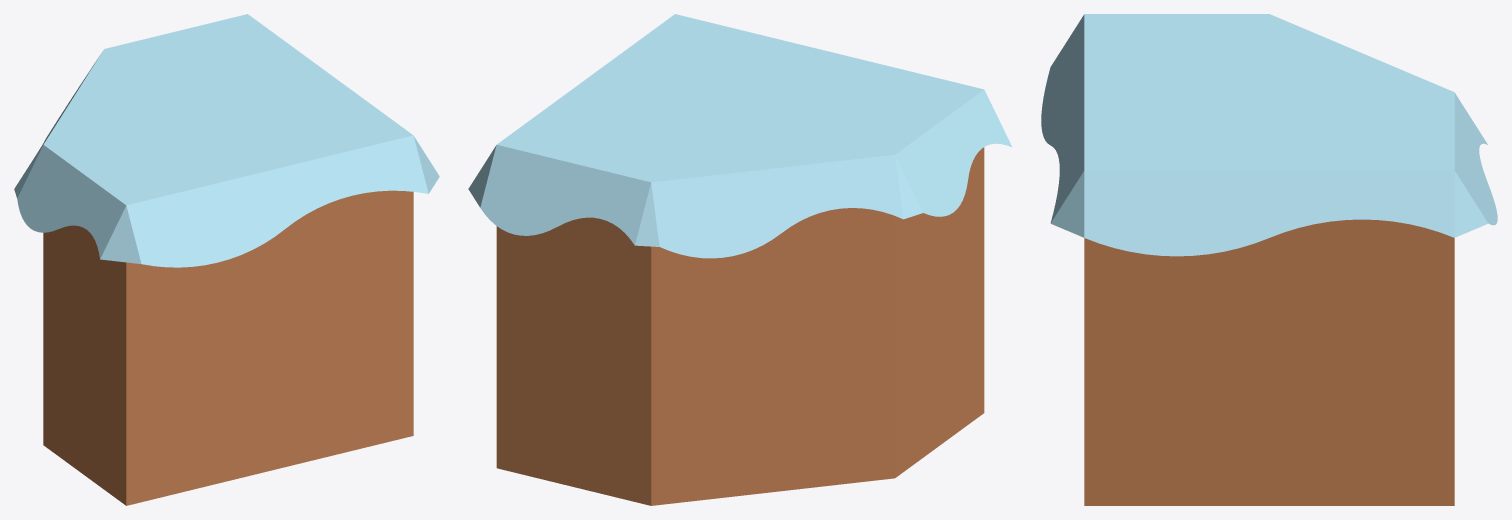
File: blockSnowCornerSmall.dae
3 renders of one model, left to right at view 1: azimuth 30°, elevation 25°; view 2: azimuth 150°, elevation 25°; view 3: azimuth 270°, elevation 25°, orthographic. The views are drawn at different scales.
Parts seen in each view (by area): view 1: blockSnowCornerSmall; view 2: blockSnowCornerSmall; view 3: blockSnowCornerSmall.
Part boxes in pixels (box(x1,y1,x2,y2)): blockSnowCornerSmall: box(14, 14, 439, 505); blockSnowCornerSmall: box(468, 14, 1012, 505); blockSnowCornerSmall: box(1041, 14, 1497, 505).
Bounding box in the file's own units: 1.23 × 1 × 1.23.
